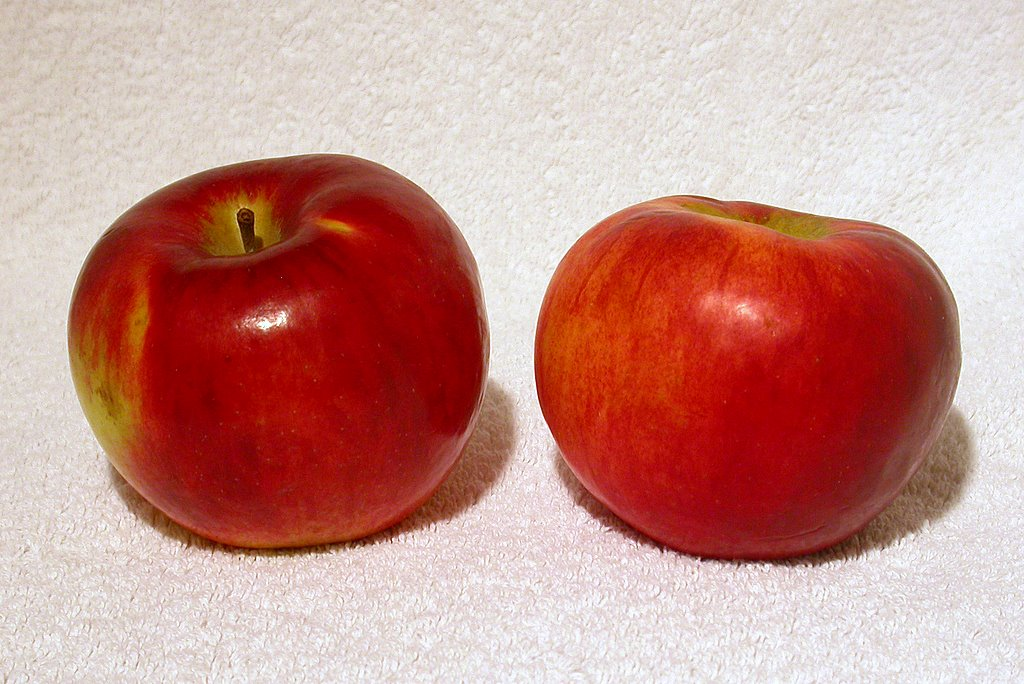apple: (61, 145, 492, 550), (532, 192, 964, 563)
